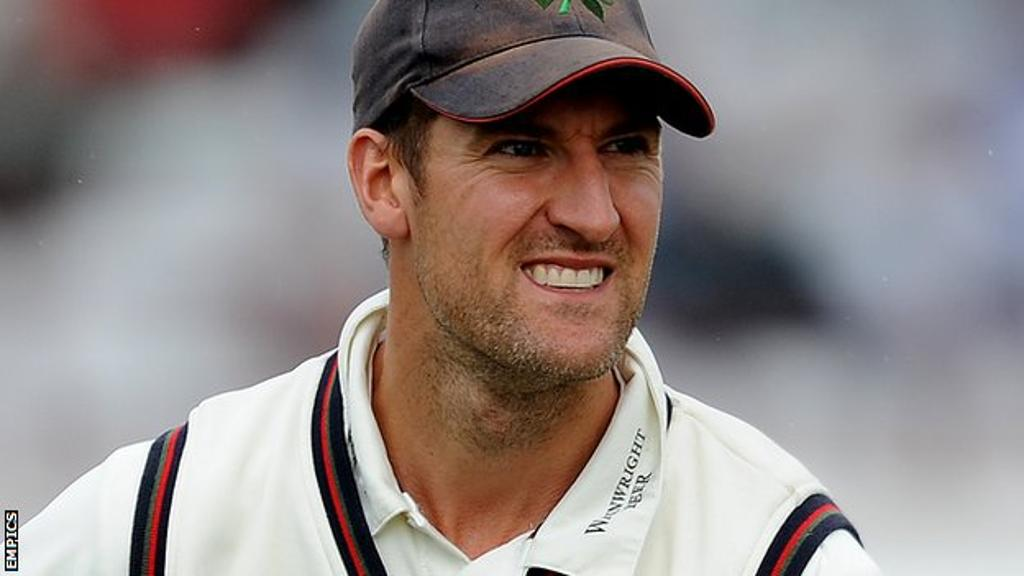face: (415, 29, 663, 379)
